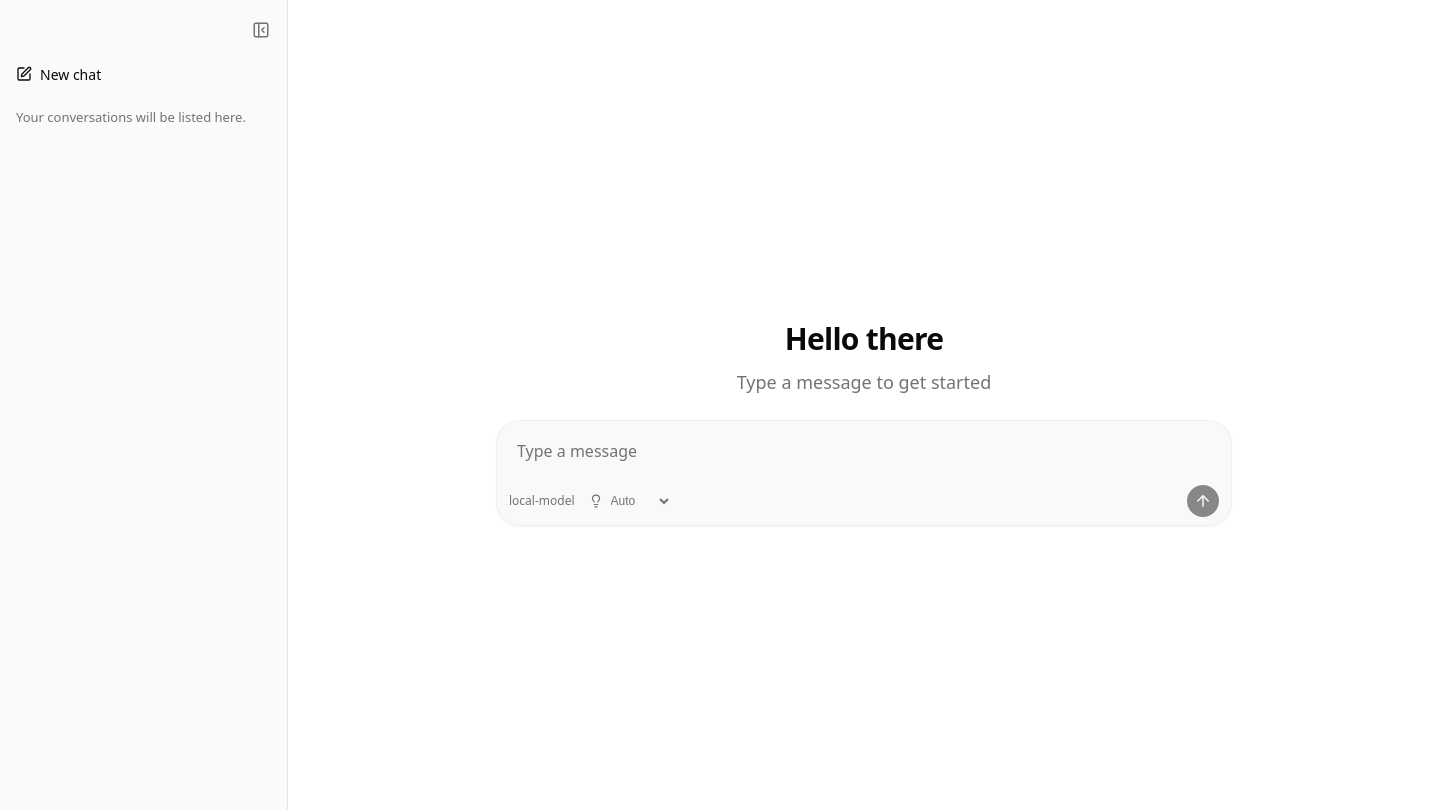
Test: a failure is explained by its status, with the backend message as a detail
Expected: the link "New chat" is shown, [16,64,101,84]
Type "Hi" into the text box labelled "message" at (864, 457), box [509,433,1219,481]
Then press Enter
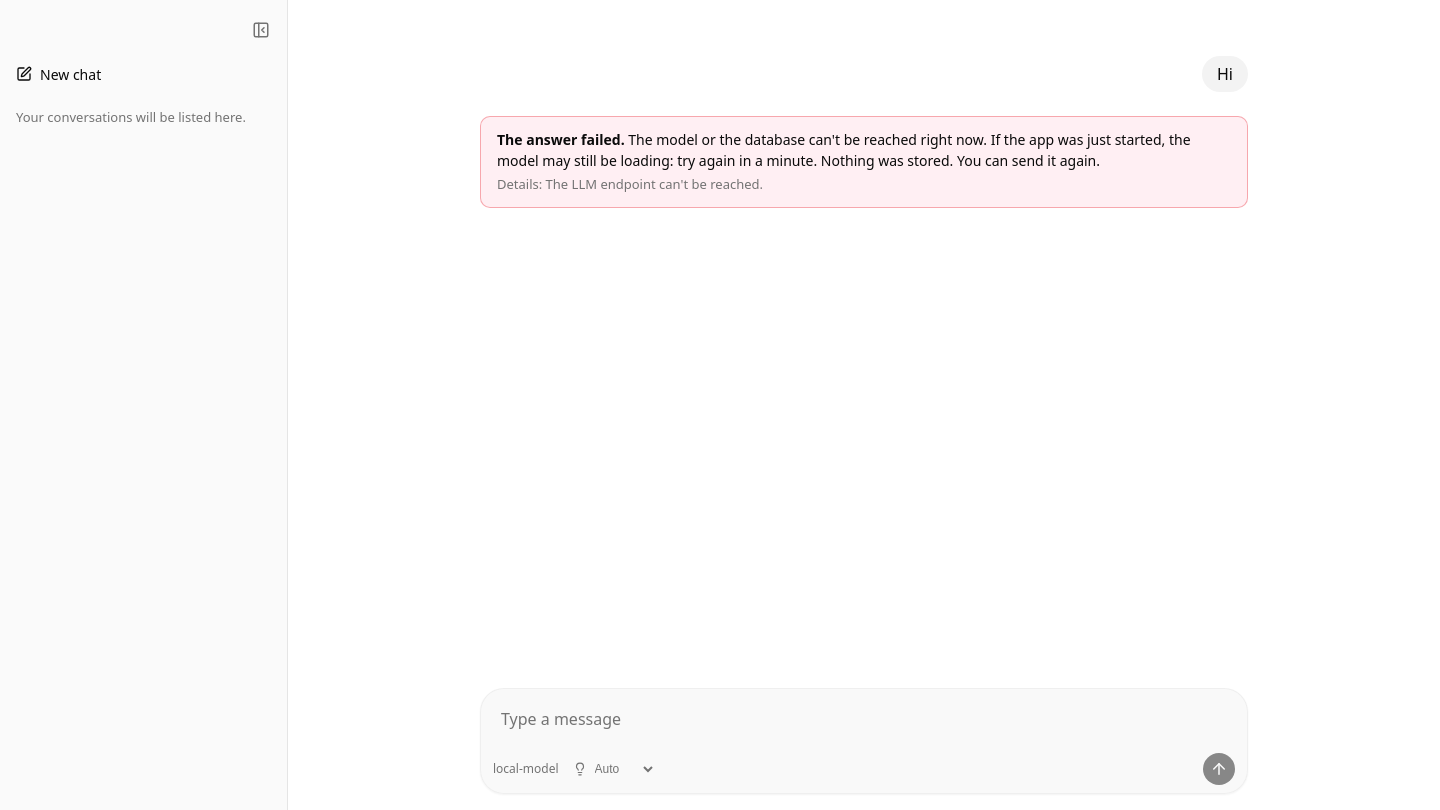
Now the message shows "The answer failed.", box [497,130,625,149]
Now the message shows "The model or the database can't be reached", box [497,130,1191,170]
Now the message shows "Details: The LLM endpoint can't be reached.", box [480,116,1248,208]
